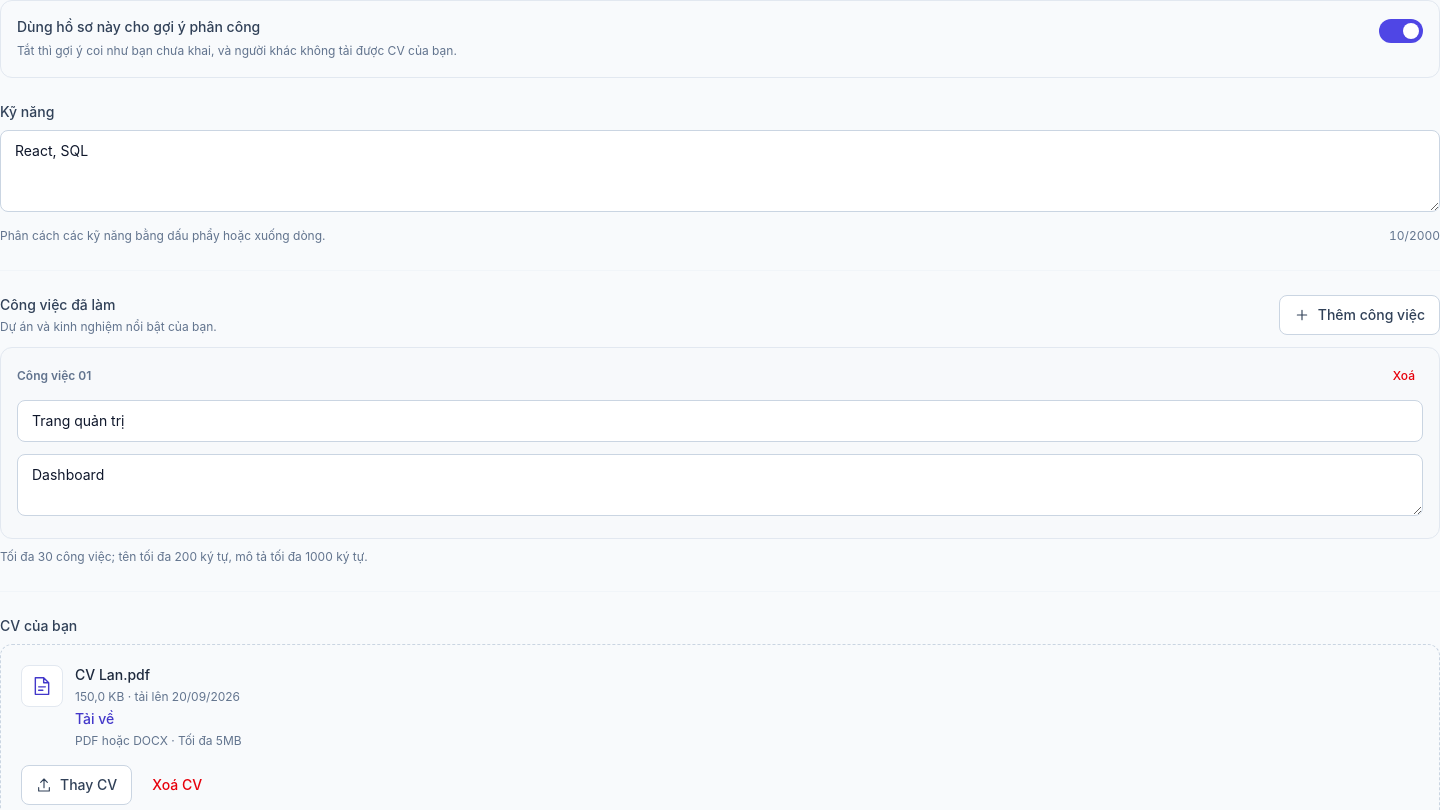
Test case: DeclaredProfileSection - CV › Xoá CV: hỏi xác nhận (Huỷ thì không gọi); đồng ý -> deleteDeclaredCv, về "Chưa tải CV lên."
The image size is (1440, 810).
Click the button "Xoá CV": (177, 785) [140, 765, 214, 805]
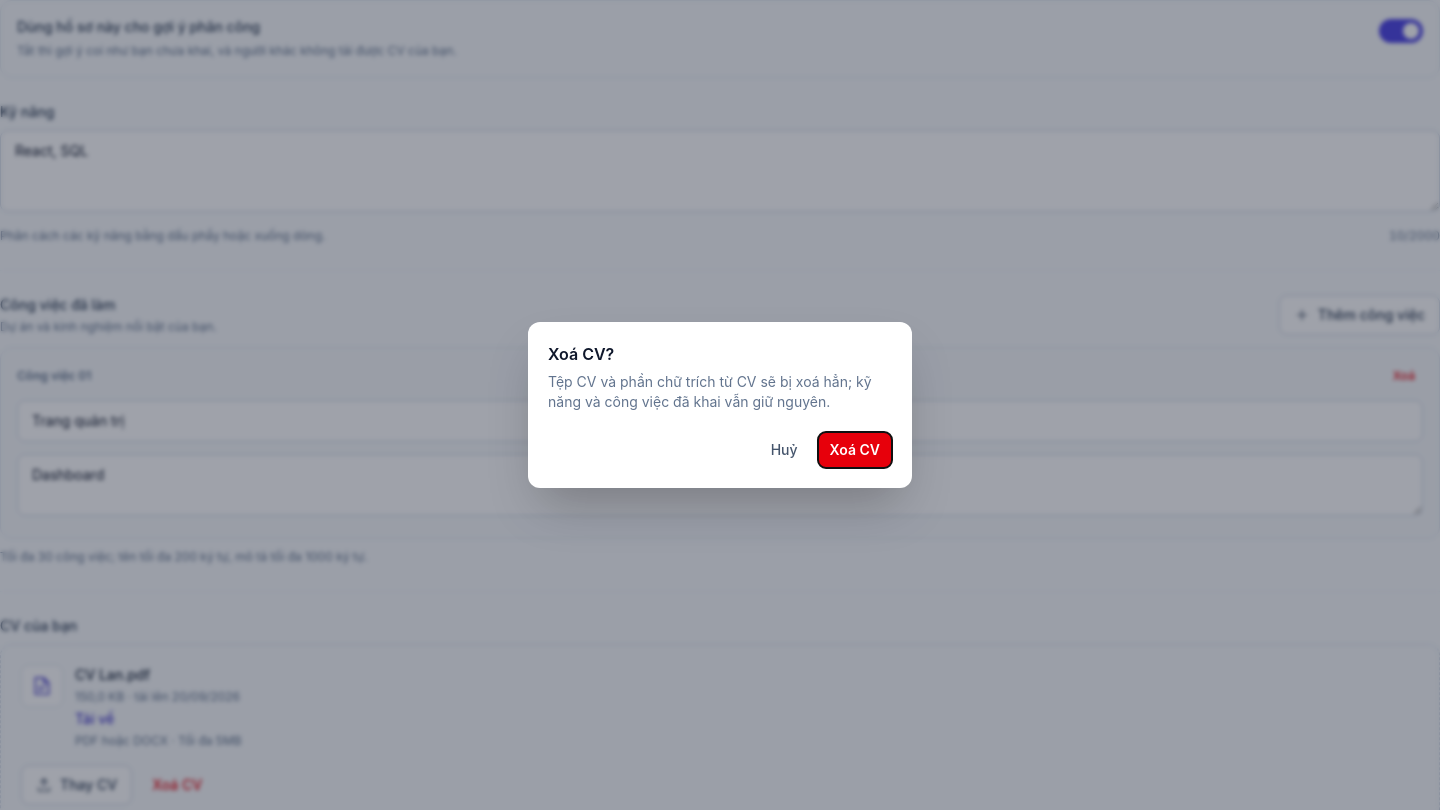
Expected: the dialog shows "kỹ năng và công việc đã khai vẫn giữ nguyên", [548, 373, 872, 410]
Click the button "Huỷ": (784, 450) [759, 432, 810, 468]
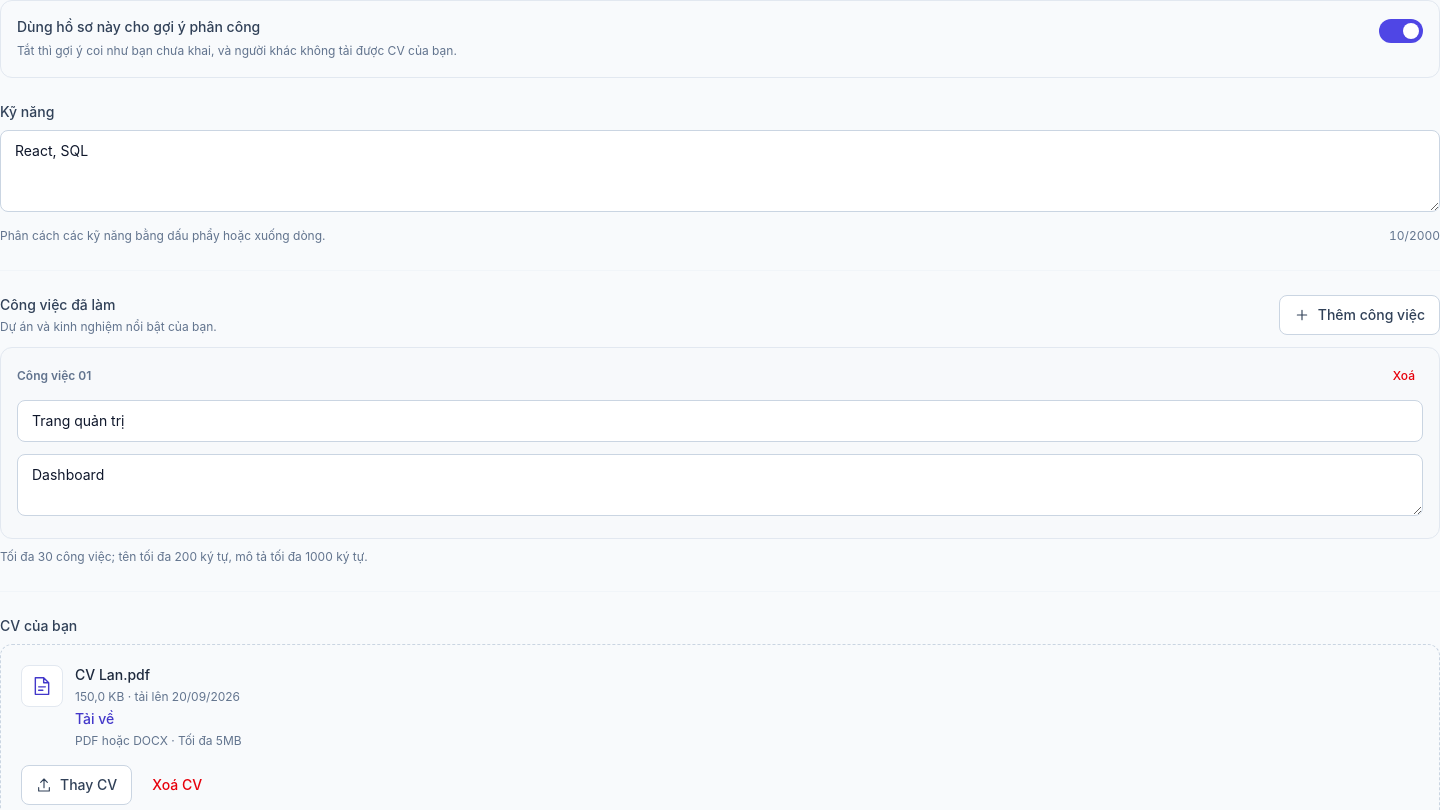
Click the button "Xoá CV": (177, 785) [140, 765, 214, 805]
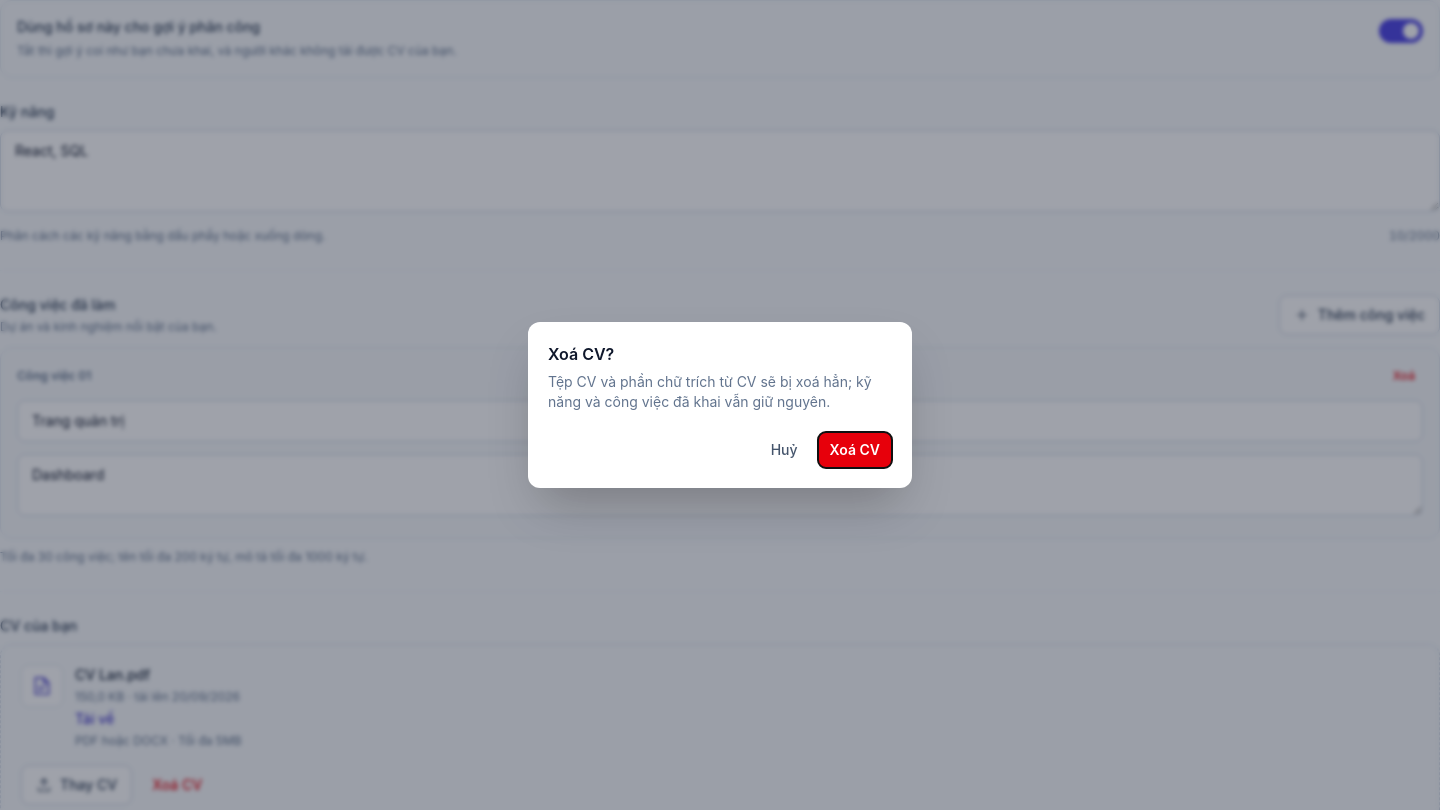
Click the button "Xoá CV": (855, 450) [818, 432, 892, 468]
(page scrolled)
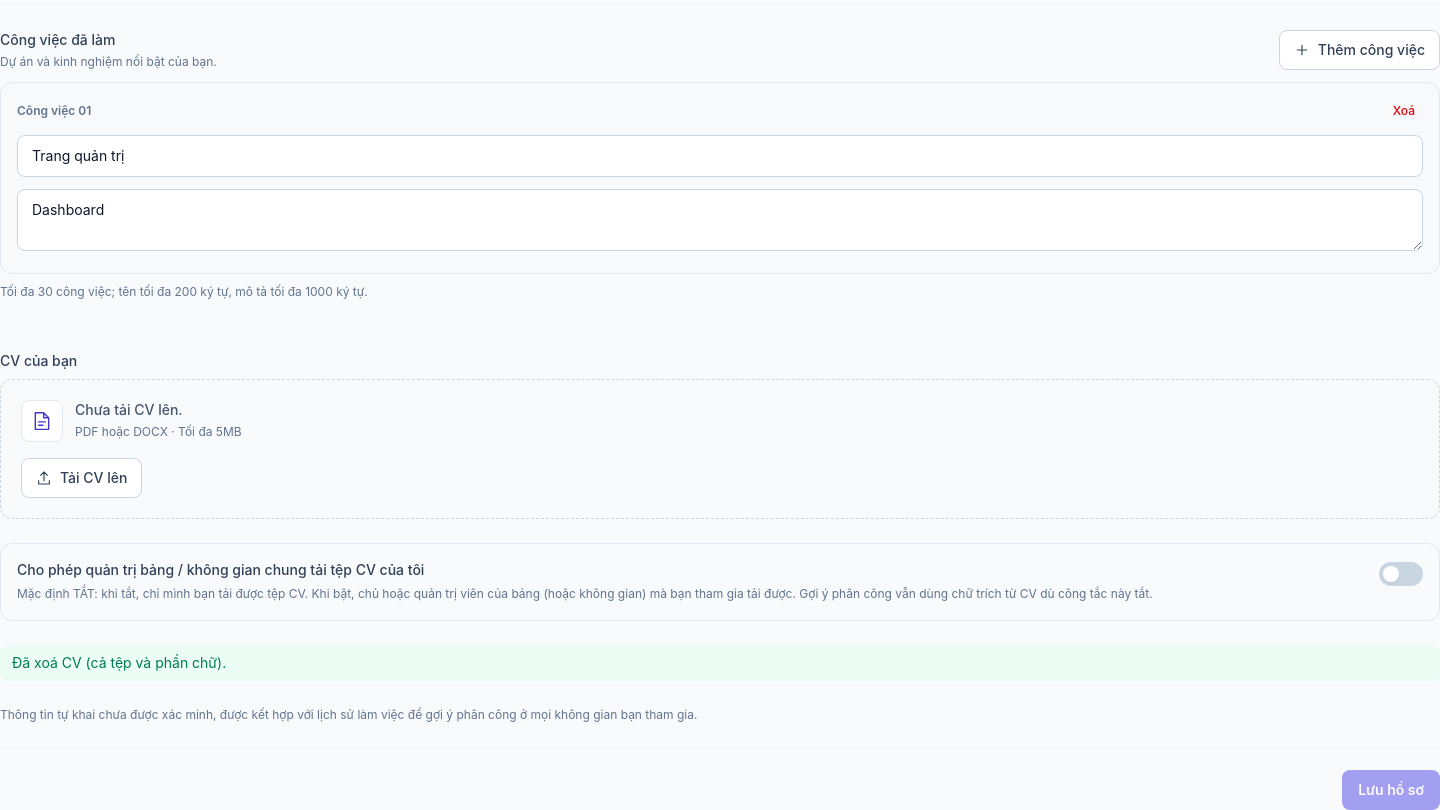
Expected: the text "Đã xoá CV (cả tệp và phần chữ)." is shown, [0, 645, 1439, 681]
Expected: the text "Chưa tải CV lên." is shown, [75, 401, 183, 418]
Expected: the dialog is gone
